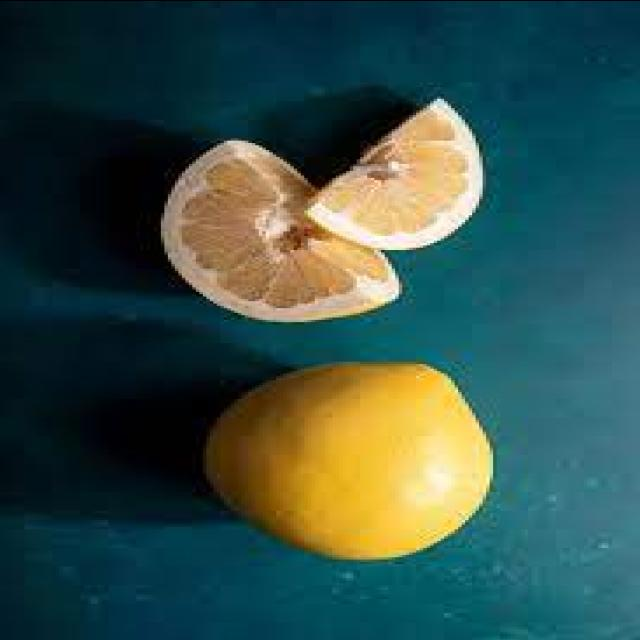orange: (204, 356, 489, 562)
